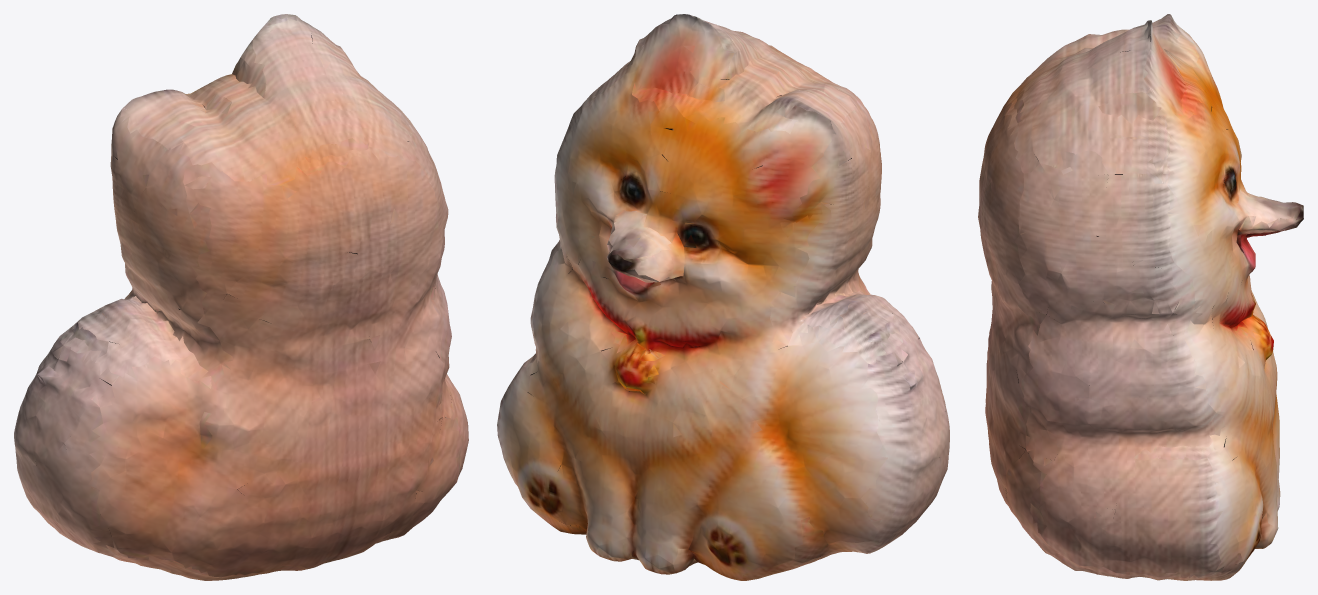
File: Jerry_Puppy.glb
3 renders of one model, left to right at view 1: azimuth 30°, elevation 25°; view 2: azimuth 150°, elevation 25°; view 3: azimuth 270°, elevation 25°, orthographic.
Visible parts, largest first — view 1: world; view 2: world; view 3: world.
Part boxes in pixels (x1,y1,x2,y2): world: [14, 14, 468, 580]; world: [497, 14, 949, 580]; world: [978, 14, 1303, 580].
Bounding box in the file's own units: 0.7574 × 0.9021 × 0.5155.
1 material, 1 textured.
